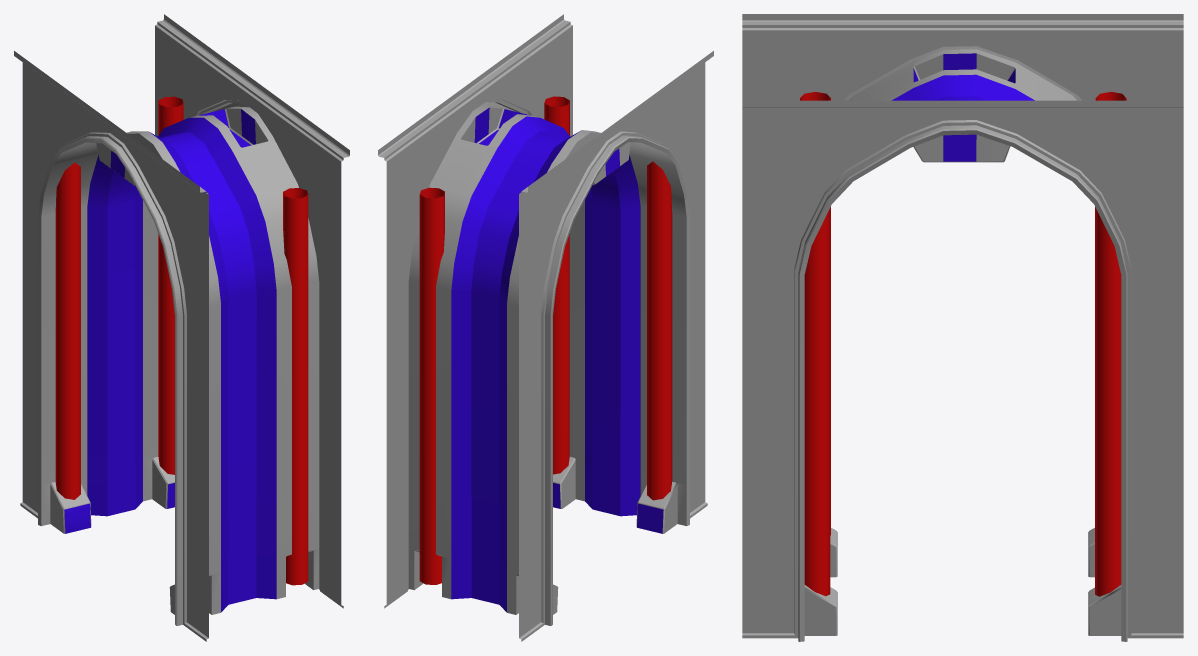
Rendered from Aqueduct_Smll.fbx.
3 renders of one model, left to right at view 1: azimuth 30°, elevation 25°; view 2: azimuth 150°, elevation 25°; view 3: azimuth 270°, elevation 25°, orthographic. The views are drawn at different scales.
Visible parts, largest first — view 1: Aqueduct_Smll; view 2: Aqueduct_Smll; view 3: Aqueduct_Smll.
Part boxes in pixels (box(x1,y1,x2,y2)): Aqueduct_Smll: box(14, 14, 349, 641); Aqueduct_Smll: box(378, 14, 713, 641); Aqueduct_Smll: box(742, 14, 1183, 641).
Size of the model in its own units: 2.79 by 8.12 by 6.
